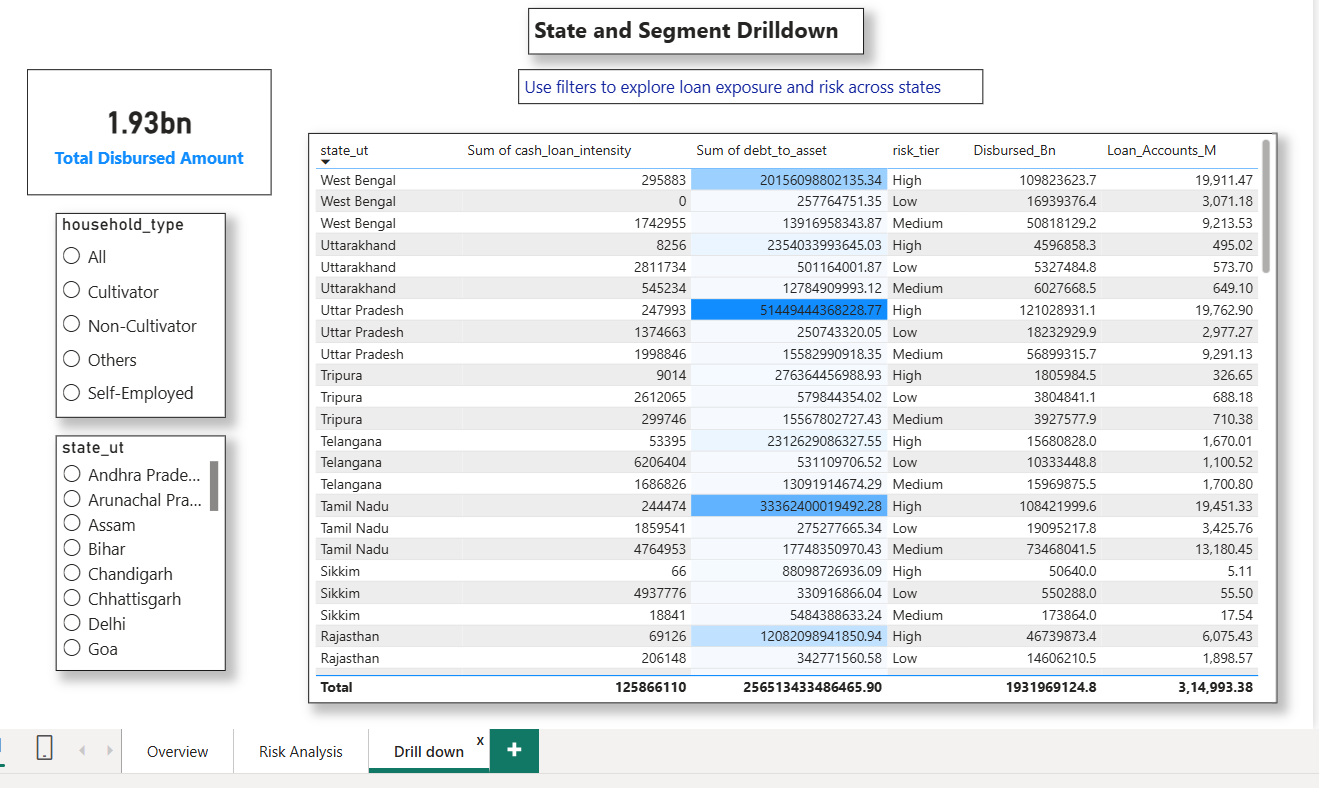

This screenshot's page, from the dashboard's own definition file:
{"tool":"powerbi","page":{"name":"Drill down","canvas":[1280,720],"ordinal":2},"visuals":[{"type":"listSlicer","fields":{"Values":["Sheet1.household_type"]},"box":[66.2,222.5,163.8,197.5],"z":0},{"type":"listSlicer","fields":{"Values":["Sheet1.state_ut"]},"box":[66.2,436.2,163.8,227.5],"z":1000},{"type":"tableEx","fields":{"Values":["Sheet1.state_ut","Sum(Sheet1.cash_loan_intensity)","Sum(Sheet1.debt_to_asset)","Sheet1.risk_tier","Sheet1.Disbursed_Bn","Sheet1.Loan_Accounts_M"]},"box":[310,145,935,550],"z":2000},{"type":"textbox","box":[522.5,23.8,323.8,45],"z":2001},{"type":"textbox","box":[512.5,83.8,448.8,33.8],"z":2002},{"type":"card","fields":{"Values":["Sheet1.Total Disbursed Amount"]},"box":[38.8,83.8,236.2,121.2],"z":2003}]}

Visuals, with their boxes on the page's 1280x720 design canvas (x1, y1, x2, y2). These are canvas units, not pixel positions in the 1319x788 screenshot, which may show the page scaled, cropped or inside an application window:
listSlicer - Sheet1.household_type: <region>66, 222, 230, 420</region>
listSlicer - Sheet1.state_ut: <region>66, 436, 230, 664</region>
tableEx - Sheet1.state_ut x Sum(Sheet1.cash_loan_intensity): <region>310, 145, 1245, 695</region>
textbox: <region>522, 24, 846, 69</region>
textbox: <region>512, 84, 961, 118</region>
card - Sheet1.Total Disbursed Amount: <region>39, 84, 275, 205</region>
